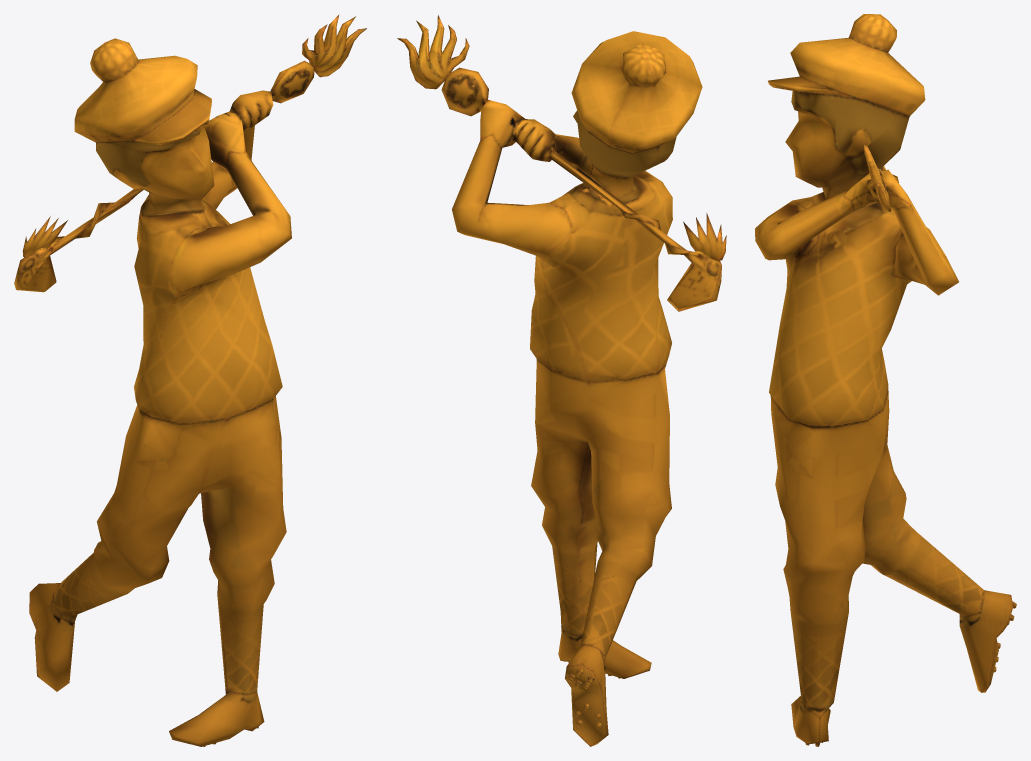
Rendered from golf_swing_pose.glb.
3 views of the same model, side by side, from view 1: azimuth 30°, elevation 25°; view 2: azimuth 150°, elevation 25°; view 3: azimuth 270°, elevation 25° (orthographic). The views are drawn at different scales.
Parts seen in each view (by area): view 1: LP; view 2: LP; view 3: LP.
Boxes of the visible parts, bbox=[...] form: LP: bbox=[14, 14, 366, 746]; LP: bbox=[397, 15, 726, 746]; LP: bbox=[755, 14, 1016, 746].
Bounding box in the file's own units: 1.05 × 2.01 × 0.7022.
1 material, 1 textured.
